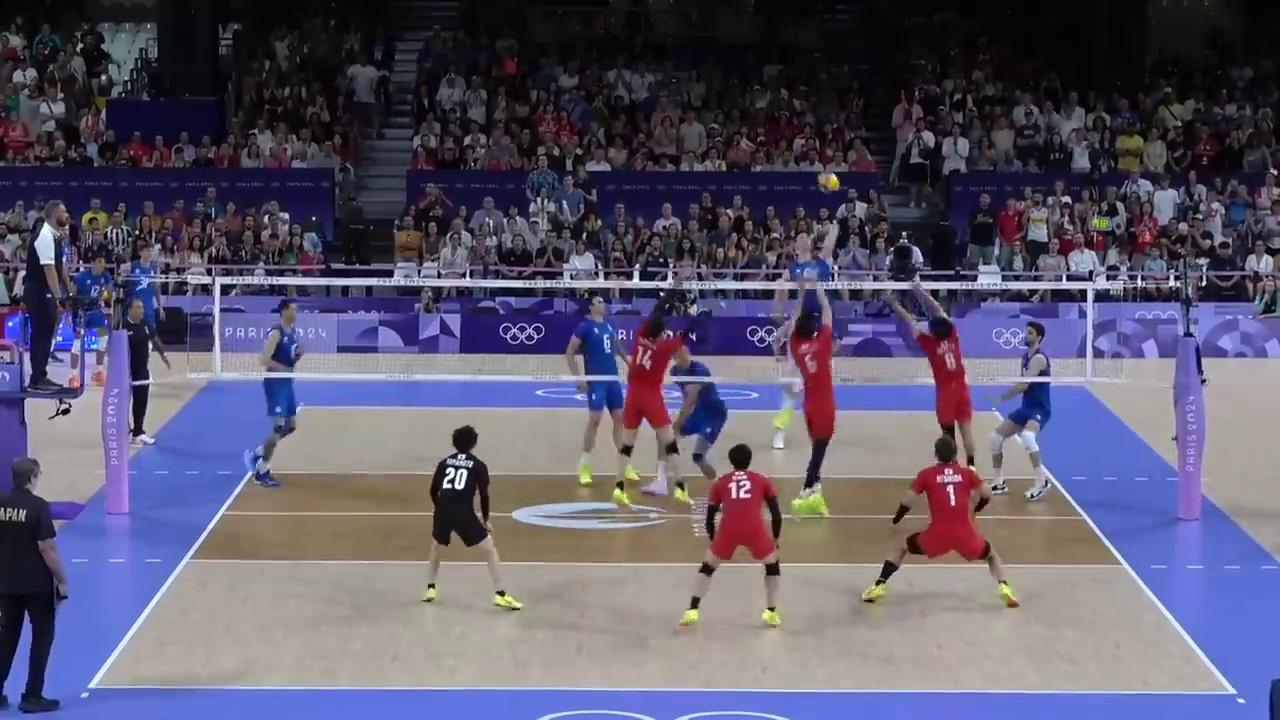ball: (817, 173, 839, 192)
